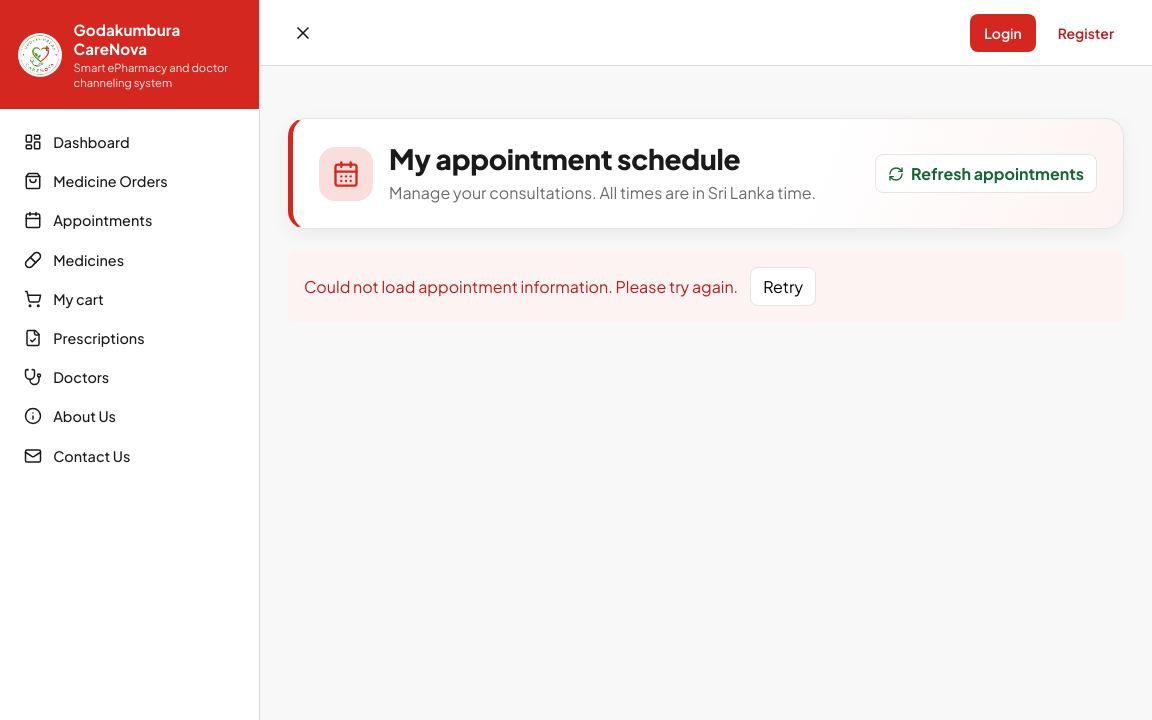
Scenario: shows empty schedules and retries load failures
Click the button "Retry".
click(783, 286)  # box [750,267,816,306]
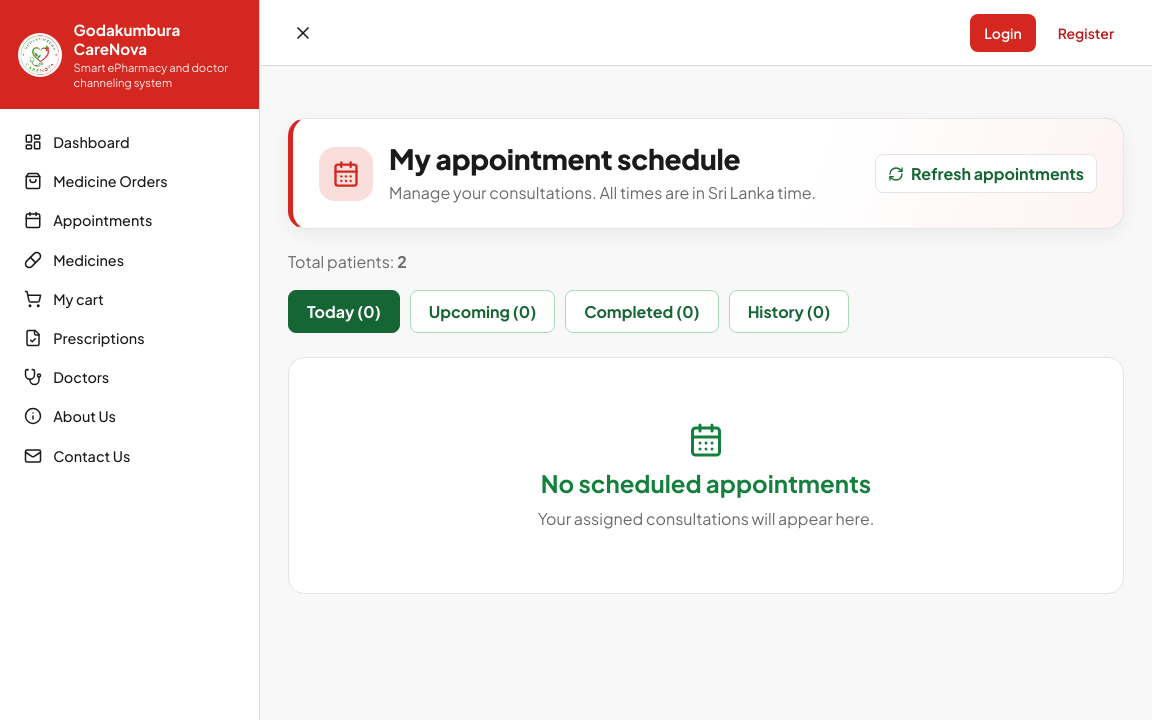
Expected: the heading "No scheduled appointments" is shown, [541,468,871,498]
